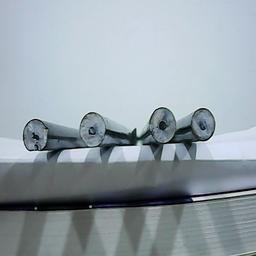pen: (148, 105, 177, 144), (78, 111, 107, 148), (190, 105, 217, 142), (22, 118, 48, 152)
